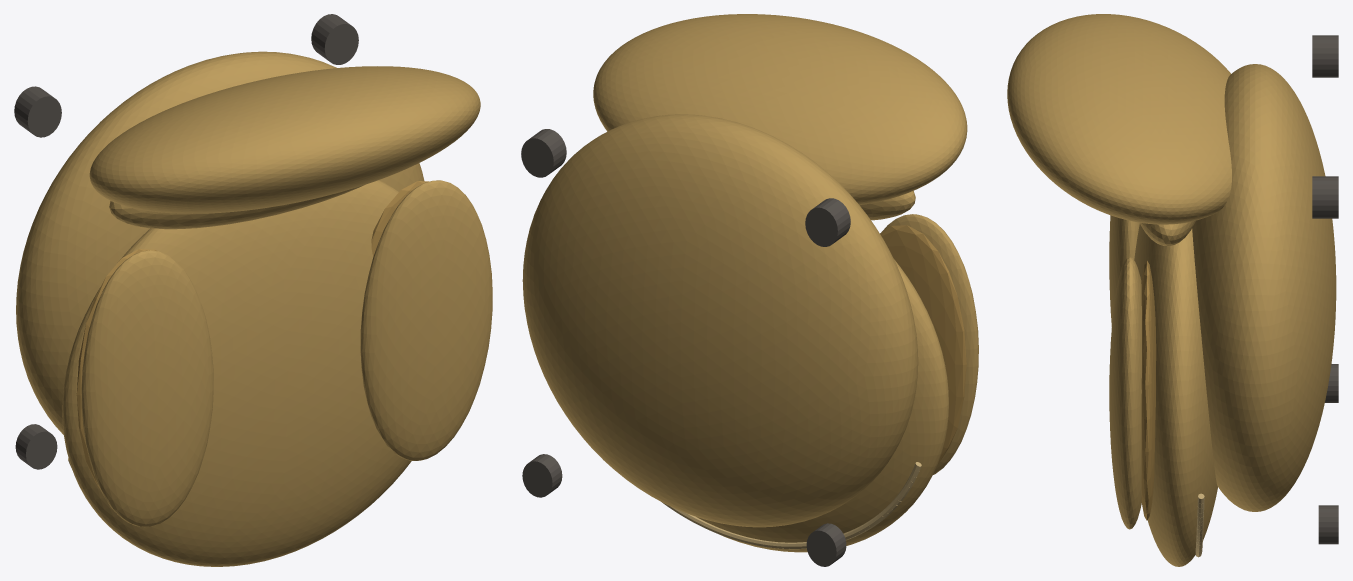
3 views of the same model, side by side, from view 1: azimuth 30°, elevation 25°; view 2: azimuth 150°, elevation 25°; view 3: azimuth 270°, elevation 25° (orthographic). The views are drawn at different scales.
Parts seen in each view (by area): view 1: 1_Seat cushion, 2_Backrest, 6_Right armrest cushion, 4_Left armrest cushion, 0_Upholstered lower body, 3_Lower back padded section, 9_Rear foot -330, 11_Rear foot 330, 8_Front foot -330, 5_Left armrest underside, 7_Right armrest underside; view 2: 0_Upholstered lower body, 2_Backrest, 1_Seat cushion, 5_Left armrest underside, 4_Left armrest cushion, 9_Rear foot -330, 11_Rear foot 330, 8_Front foot -330, 10_Front foot 330, 3_Lower back padded section; view 3: 0_Upholstered lower body, 2_Backrest, 1_Seat cushion, 6_Right armrest cushion, 7_Right armrest underside, 4_Left armrest cushion, 9_Rear foot -330, 11_Rear foot 330, 3_Lower back padded section, 10_Front foot 330, 8_Front foot -330.
Part boxes in pixels (<box>): 1_Seat cushion: <box>62,180,411,566</box>; 2_Backrest: <box>89,66,480,213</box>; 6_Right armrest cushion: <box>360,180,492,460</box>; 4_Left armrest cushion: <box>81,250,213,527</box>; 0_Upholstered lower body: <box>16,51,424,434</box>; 3_Lower back padded section: <box>109,185,364,229</box>; 9_Rear foot -330: <box>14,86,61,137</box>; 11_Rear foot 330: <box>311,14,358,64</box>; 8_Front foot -330: <box>15,424,57,469</box>; 5_Left armrest underside: <box>76,249,157,488</box>; 7_Right armrest underside: <box>371,181,428,256</box>; 0_Upholstered lower body: <box>522,114,918,527</box>; 2_Backrest: <box>593,14,967,205</box>; 1_Seat cushion: <box>697,259,948,552</box>; 5_Left armrest underside: <box>880,225,966,464</box>; 4_Left armrest cushion: <box>881,214,978,474</box>; 9_Rear foot -330: <box>805,198,850,246</box>; 11_Rear foot 330: <box>521,129,566,177</box>; 8_Front foot -330: <box>806,523,846,566</box>; 10_Front foot 330: <box>522,454,562,497</box>; 3_Lower back padded section: <box>860,191,915,220</box>; 0_Upholstered lower body: <box>1192,64,1336,511</box>; 2_Backrest: <box>1007,14,1231,224</box>; 1_Seat cushion: <box>1134,224,1217,566</box>; 6_Right armrest cushion: <box>1109,257,1141,529</box>; 7_Right armrest underside: <box>1141,260,1156,520</box>; 4_Left armrest cushion: <box>1109,215,1139,327</box>; 9_Rear foot -330: <box>1312,35,1338,77</box>; 11_Rear foot 330: <box>1312,176,1338,218</box>; 3_Lower back padded section: <box>1140,220,1195,245</box>; 10_Front foot 330: <box>1318,505,1338,544</box>; 8_Front foot -330: <box>1325,364,1338,402</box>.
Size of the model in its own units: 930 by 1080 by 670.
